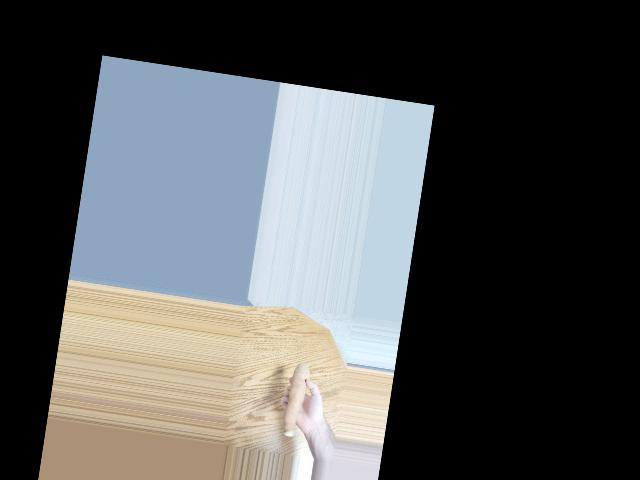sweet_potato: (278, 360, 307, 431)
